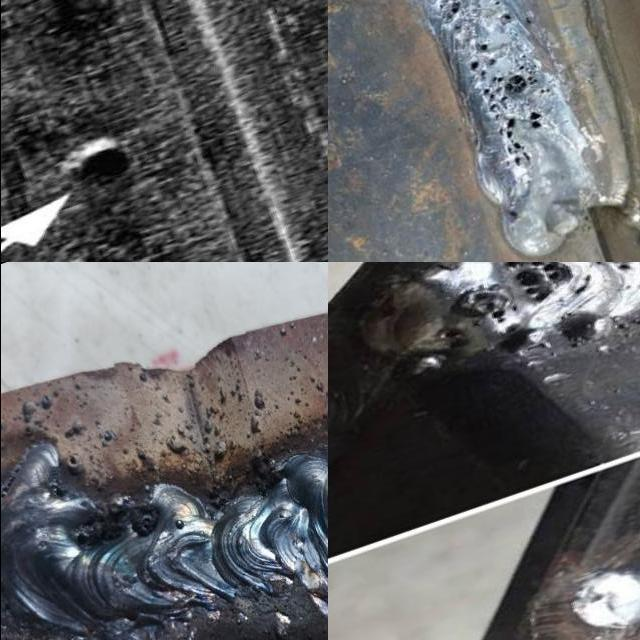defect: (465, 37, 550, 176), (72, 129, 155, 196), (497, 262, 580, 305), (454, 281, 519, 325), (130, 506, 163, 541), (495, 4, 516, 28), (73, 528, 91, 549)
